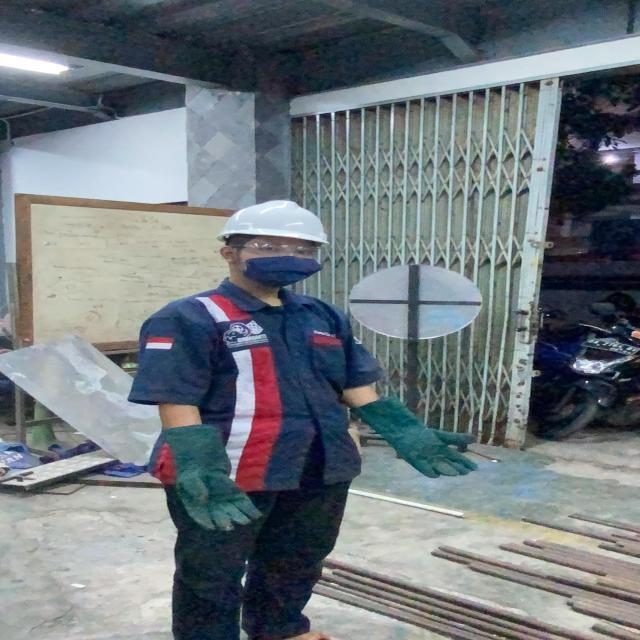glasses: (228, 240, 322, 258)
